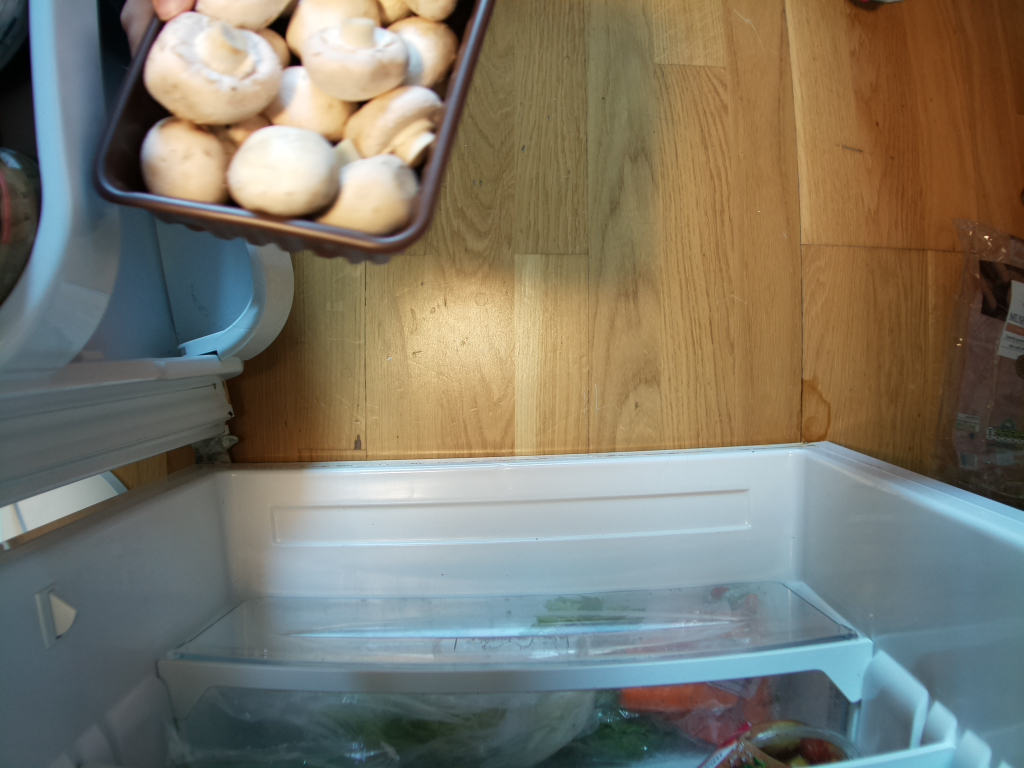mushrooms: (90, 1, 499, 270)
